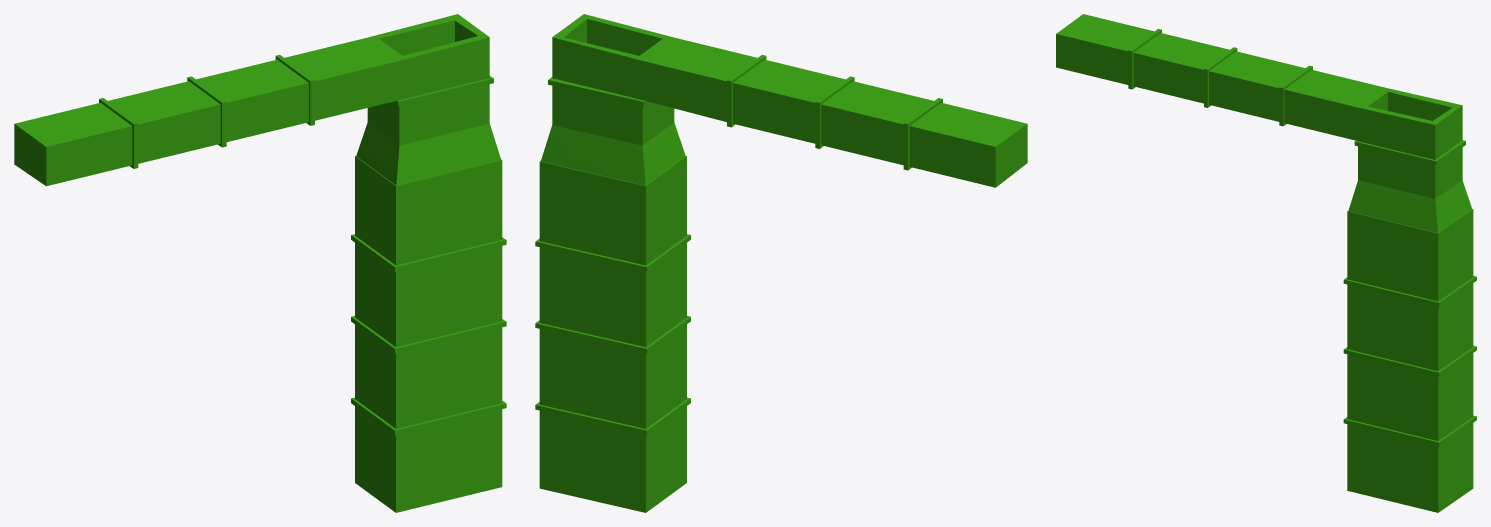
The model's file is Conduit_aeration.FBX.
The picture shows the model from 3 angles, left to right: view 1: azimuth 30°, elevation 25°; view 2: azimuth 150°, elevation 25°; view 3: azimuth 330°, elevation 25°; orthographic projection. The views are drawn at different scales.
Parts seen in each view (by area): view 1: Conduit_Tourne; view 2: Conduit_Tourne; view 3: Conduit_Tourne.
Boxes of the visible parts, x1,y1,x2,y2 form: Conduit_Tourne: [14, 14, 506, 512]; Conduit_Tourne: [535, 14, 1027, 512]; Conduit_Tourne: [1056, 14, 1476, 512].
Bounding box in the file's own units: 1393 × 1321 × 234.
